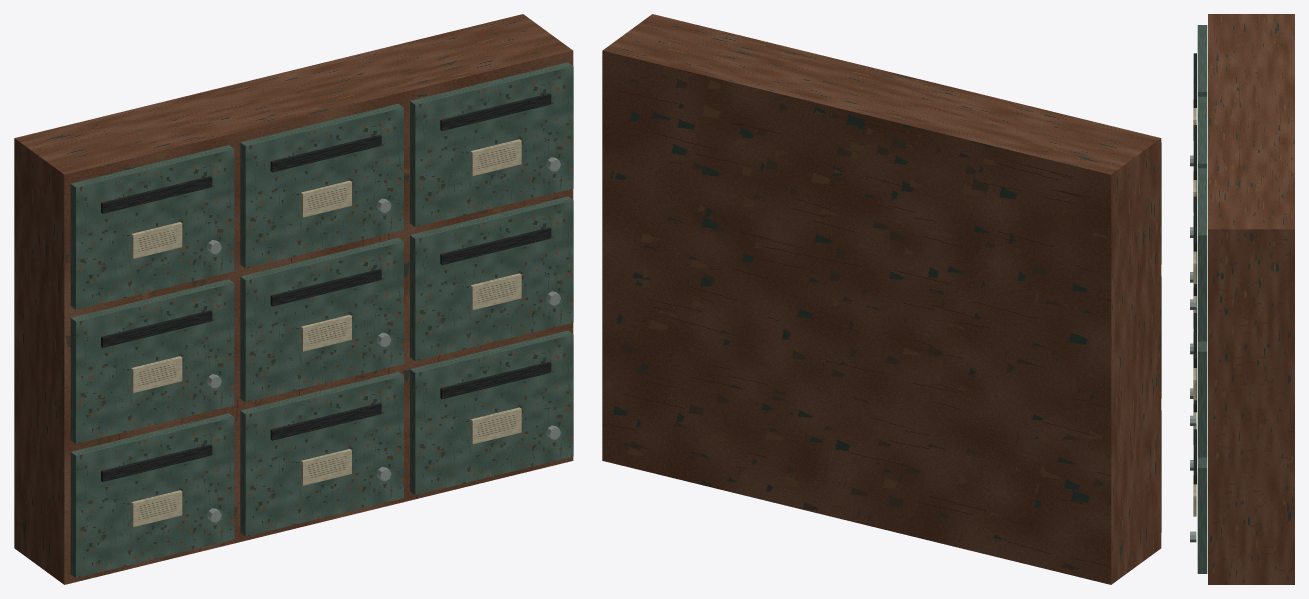
File: Mailboxes.obj
3 views of the same model, side by side, from view 1: azimuth 30°, elevation 25°; view 2: azimuth 150°, elevation 25°; view 3: azimuth 270°, elevation 25° (orthographic). The views are drawn at different scales.
Parts seen in each view (by area): view 1: Mailboxes; view 2: Mailboxes; view 3: Mailboxes.
Part boxes in pixels (x1,y1,x2,y2): Mailboxes: [14, 14, 573, 584]; Mailboxes: [602, 14, 1161, 584]; Mailboxes: [1190, 14, 1294, 584].
Bounding box in the file's own units: 1.35 × 1.04 × 0.278.
5 materials, 5 textured.
